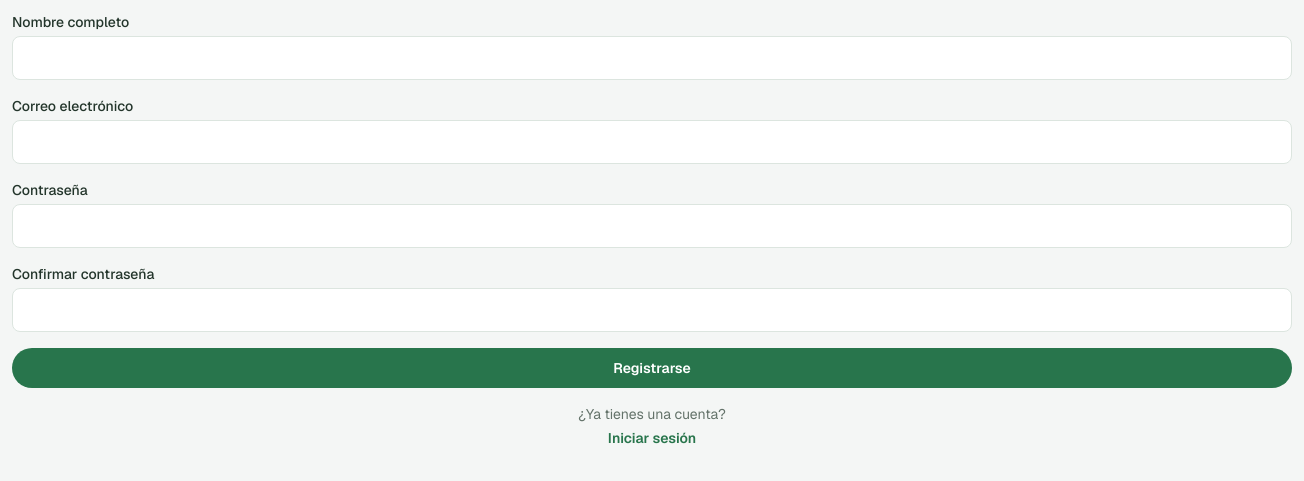
Test case: RegisterForm › shows a field error when the email is invalid
This screenshot has width=1304, height=481.
In the field labelled "Nombre completo": (652, 58) [12, 36, 1292, 80], type "Ana Martínez"
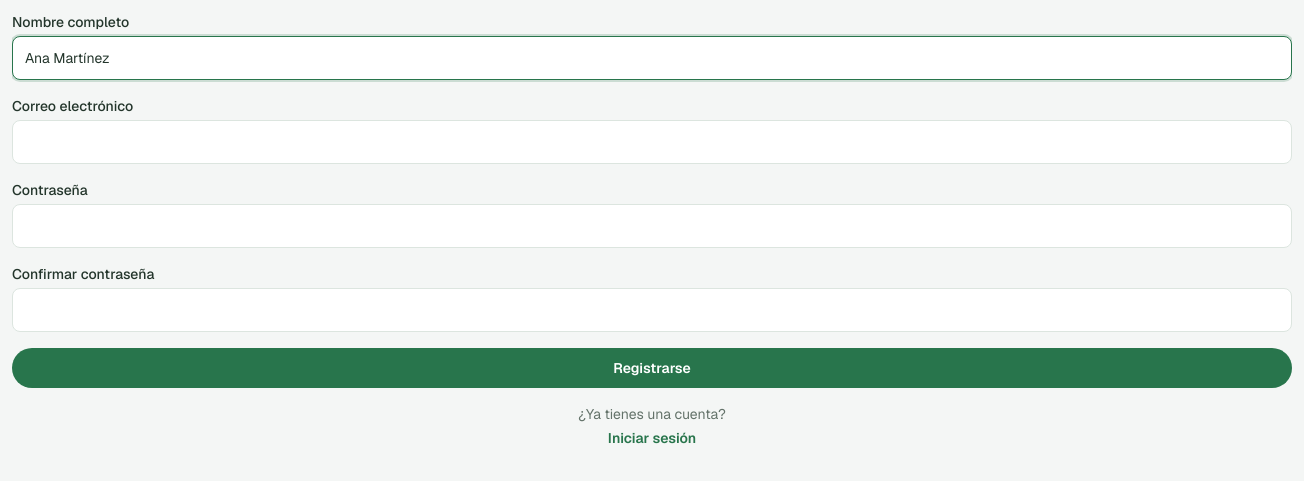
In the field labelled "Correo electrónico": (652, 142) [12, 120, 1292, 164], type "not-an-email"
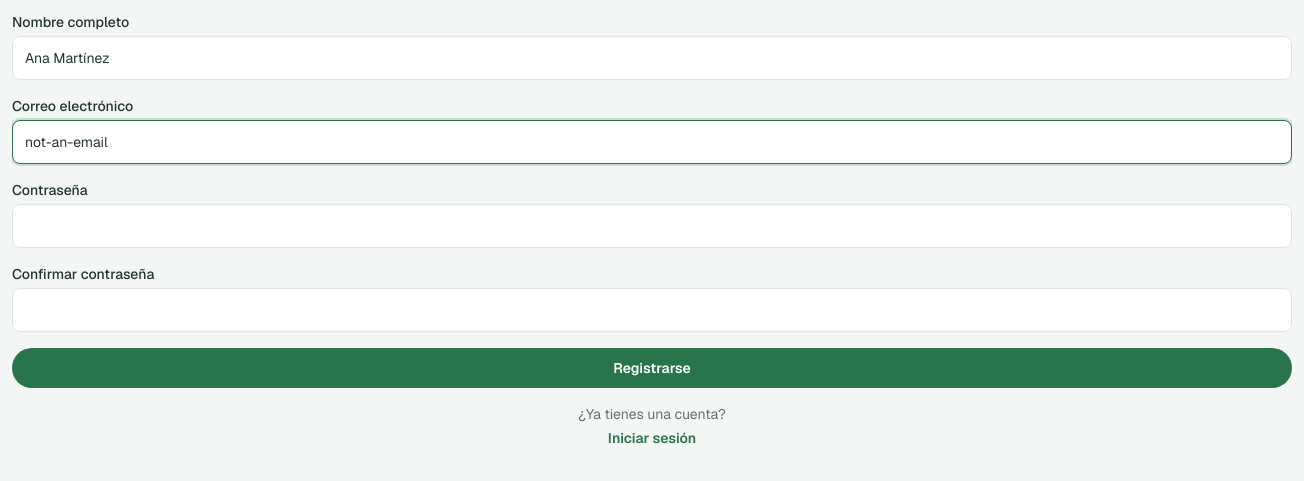
In the password field labelled "Contraseña": (652, 226) [12, 204, 1292, 248], type "secret123"
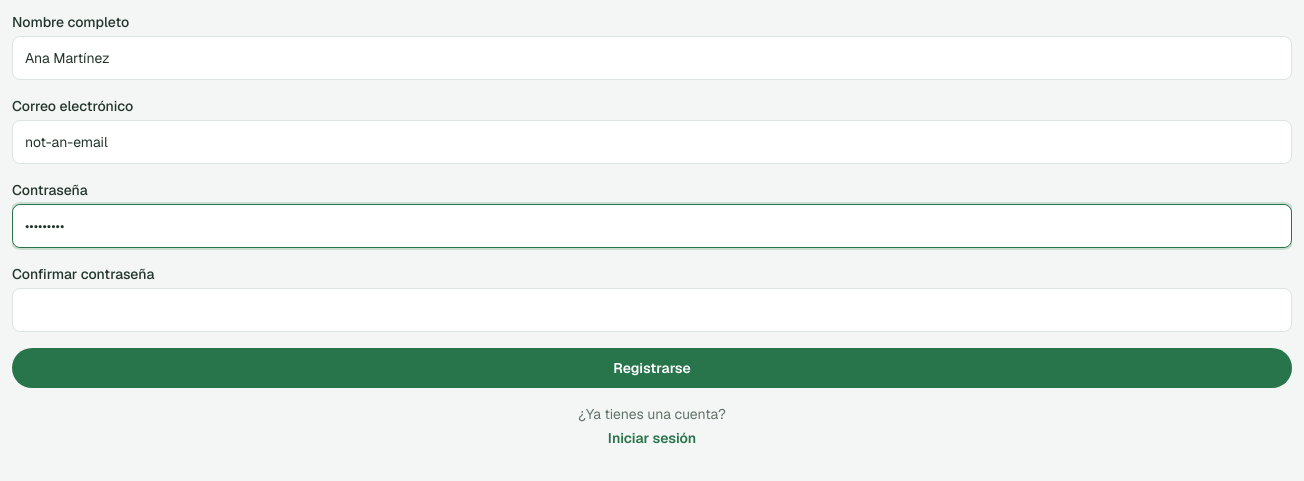
In the password field labelled "Confirmar contraseña": (652, 310) [12, 288, 1292, 332], type "secret123"
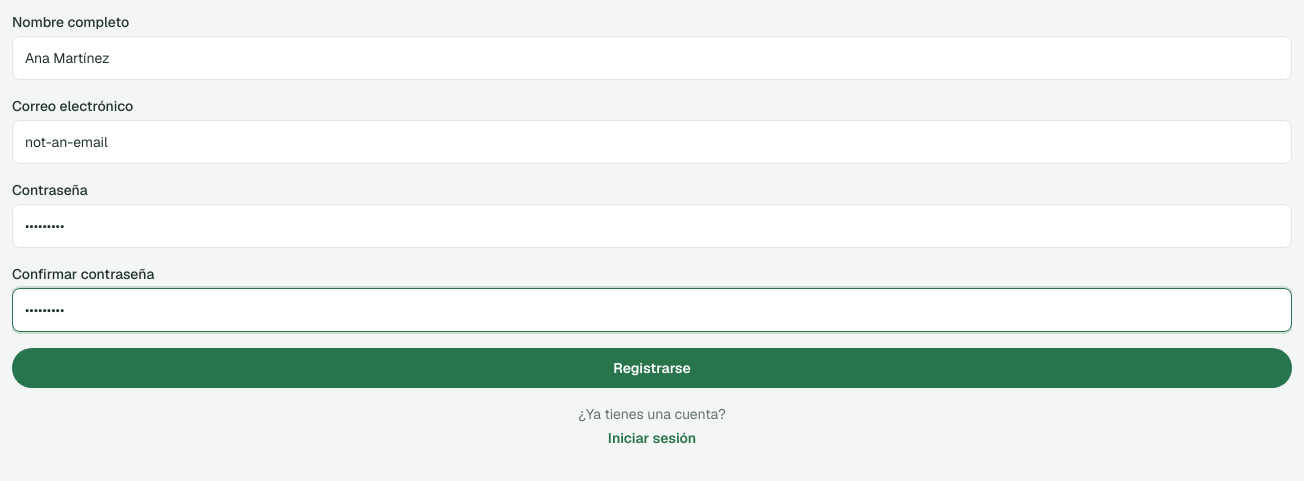
Click the button "Registrarse": (652, 368) [12, 348, 1292, 388]
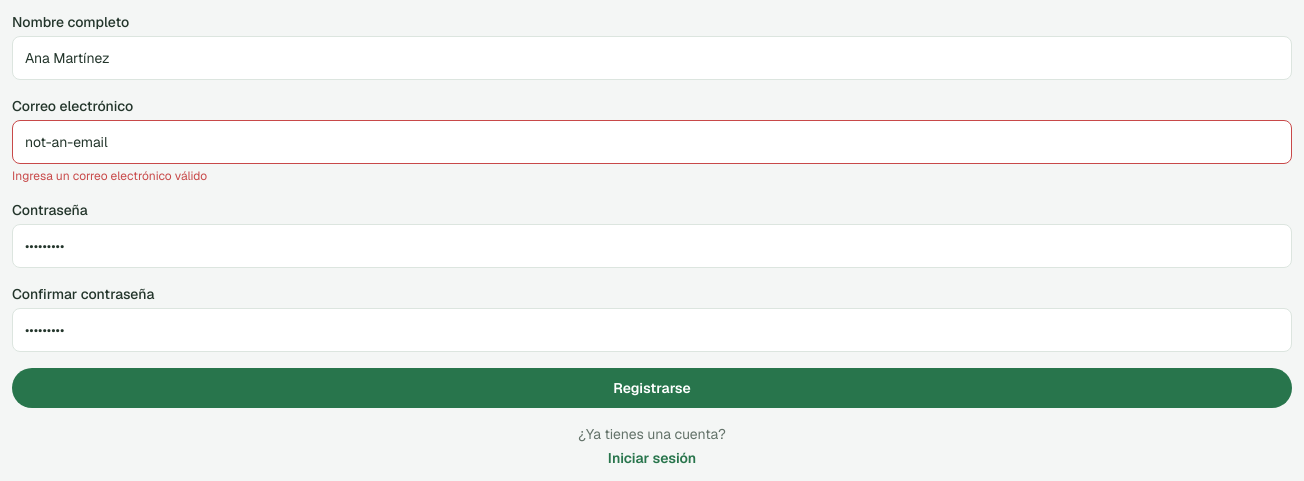
Expected: the text "Ingresa un correo electrónico válido" is shown, [12, 168, 207, 184]
